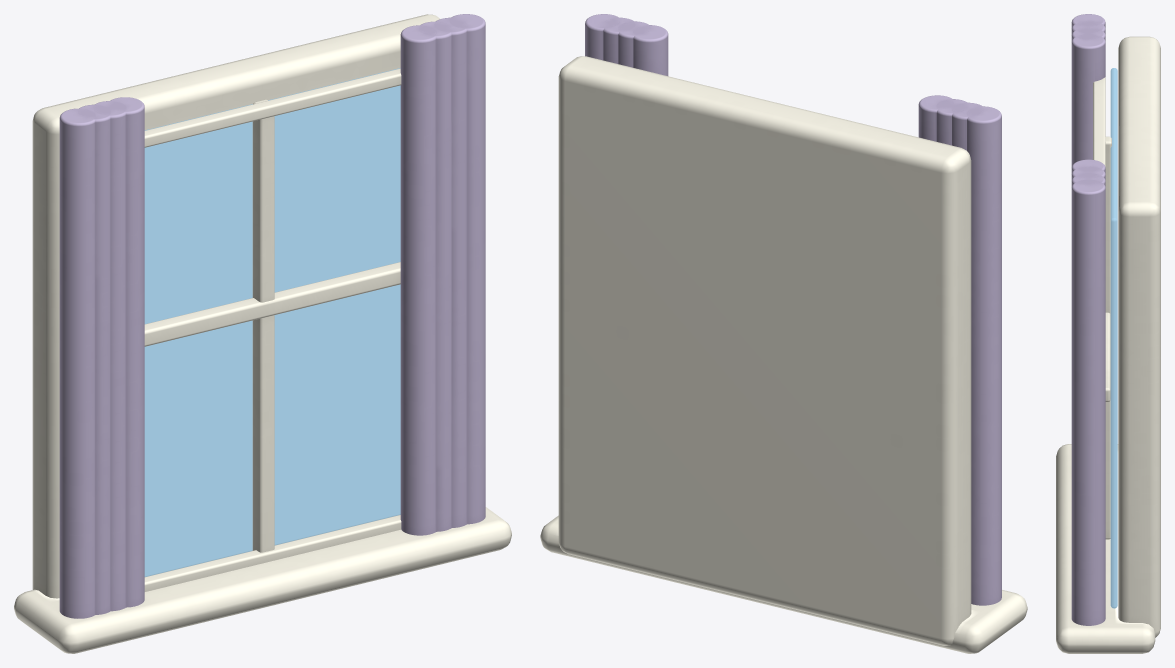
File: window7C.glb
3 renders of one model, left to right at view 1: azimuth 30°, elevation 25°; view 2: azimuth 150°, elevation 25°; view 3: azimuth 270°, elevation 25°, orthographic. The views are drawn at different scales.
Visible parts, largest first — view 1: Window glass, Window frame, Sill, Curtain fold, Curtain fold.007, Curtain fold.004, Curtain fold.003, Window muntin, Curtain fold.002, Curtain fold.005, Curtain fold.001, Curtain fold.006 (+3 smaller); view 2: Window frame, Curtain fold, Sill, Curtain fold.007, Curtain fold.004, Curtain fold.003, Curtain fold.001, Curtain fold.002, Curtain fold.006, Curtain fold.005; view 3: Window frame, Curtain fold.004, Sill, Window glass, Curtain fold.003, Window muntin, Opening sash rail.001, Window crossbar, Curtain fold.006, Curtain fold.007, Curtain fold, Curtain fold.001 (+2 smaller).
Boxes of the visible parts, x1,y1,x2,y2 form: Window glass: (144, 68, 400, 576); Window frame: (32, 14, 440, 598); Sill: (14, 507, 511, 653); Curtain fold: (59, 108, 95, 618); Curtain fold.007: (400, 25, 436, 535); Curtain fold.004: (449, 14, 485, 524); Curtain fold.003: (110, 97, 144, 607); Window muntin: (252, 99, 274, 552); Curtain fold.002: (93, 101, 126, 611); Curtain fold.005: (434, 17, 467, 527); Curtain fold.001: (78, 104, 110, 614); Curtain fold.006: (419, 21, 451, 531); Window frame: (558, 56, 971, 645); Curtain fold: (966, 106, 1001, 605); Sill: (540, 515, 1027, 653); Curtain fold.007: (633, 25, 668, 75); Curtain fold.004: (585, 14, 619, 60); Curtain fold.003: (918, 95, 953, 141); Curtain fold.001: (951, 102, 983, 150); Curtain fold.002: (936, 99, 968, 145); Curtain fold.006: (618, 21, 650, 67); Curtain fold.005: (603, 17, 635, 63); Window frame: (1118, 36, 1160, 637); Curtain fold.004: (1071, 179, 1105, 625); Sill: (1056, 444, 1155, 653); Window glass: (1110, 68, 1117, 608); Curtain fold.003: (1071, 34, 1105, 166); Window muntin: (1105, 136, 1111, 539); Opening sash rail.001: (1093, 77, 1105, 166); Window crossbar: (1105, 312, 1110, 402); Curtain fold.006: (1071, 166, 1105, 180); Curtain fold.007: (1071, 159, 1105, 173); Curtain fold: (1071, 14, 1105, 27); Curtain fold.001: (1071, 20, 1105, 34).
Size of the model in its own units: 1.61 by 1.78 by 0.37.
